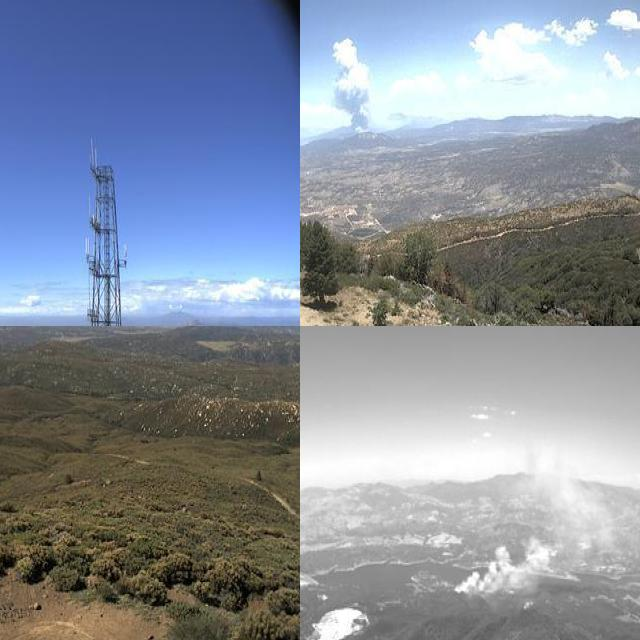smoke: (448, 430, 622, 607), (327, 34, 383, 142)
